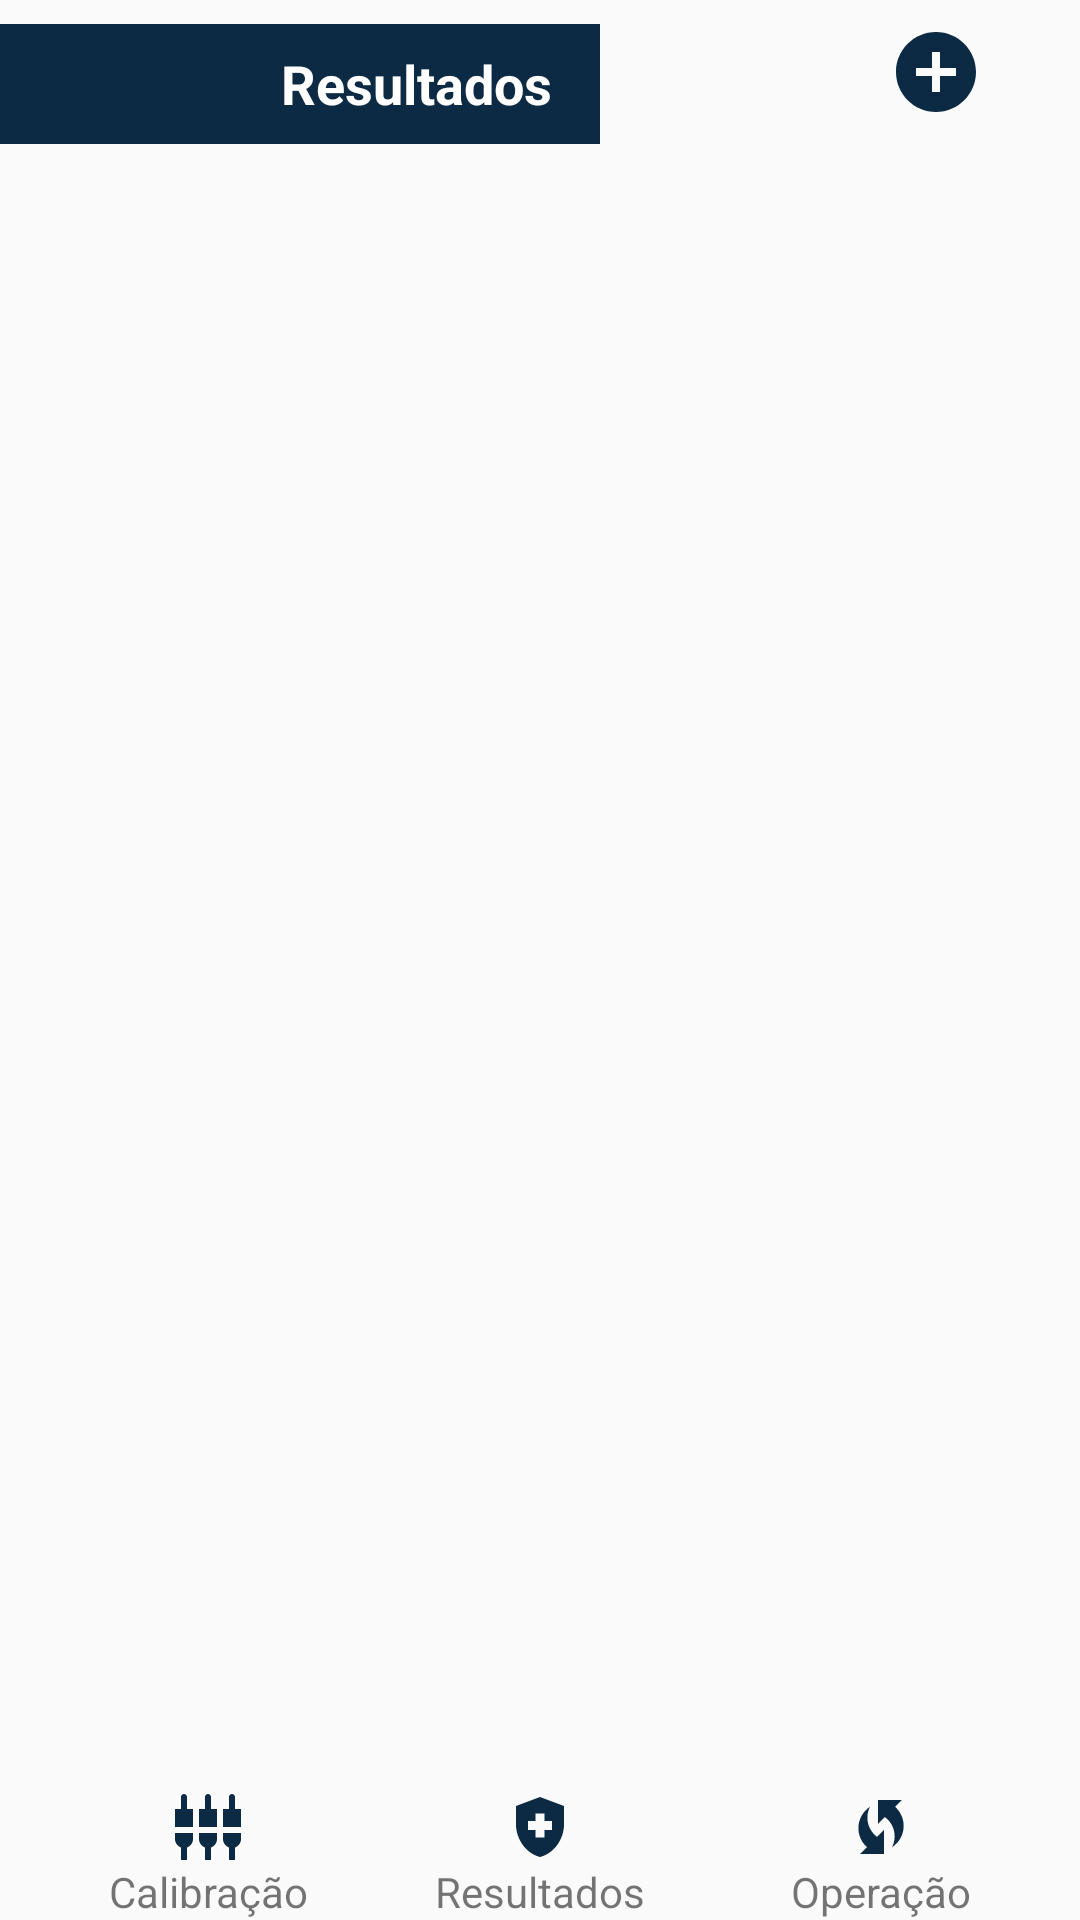

Named icons in this screenshot (1080px x 1920px) and their bounding boxes, box=[x1, y1, x2, y2]:
add circle: box=[896, 32, 976, 112]
